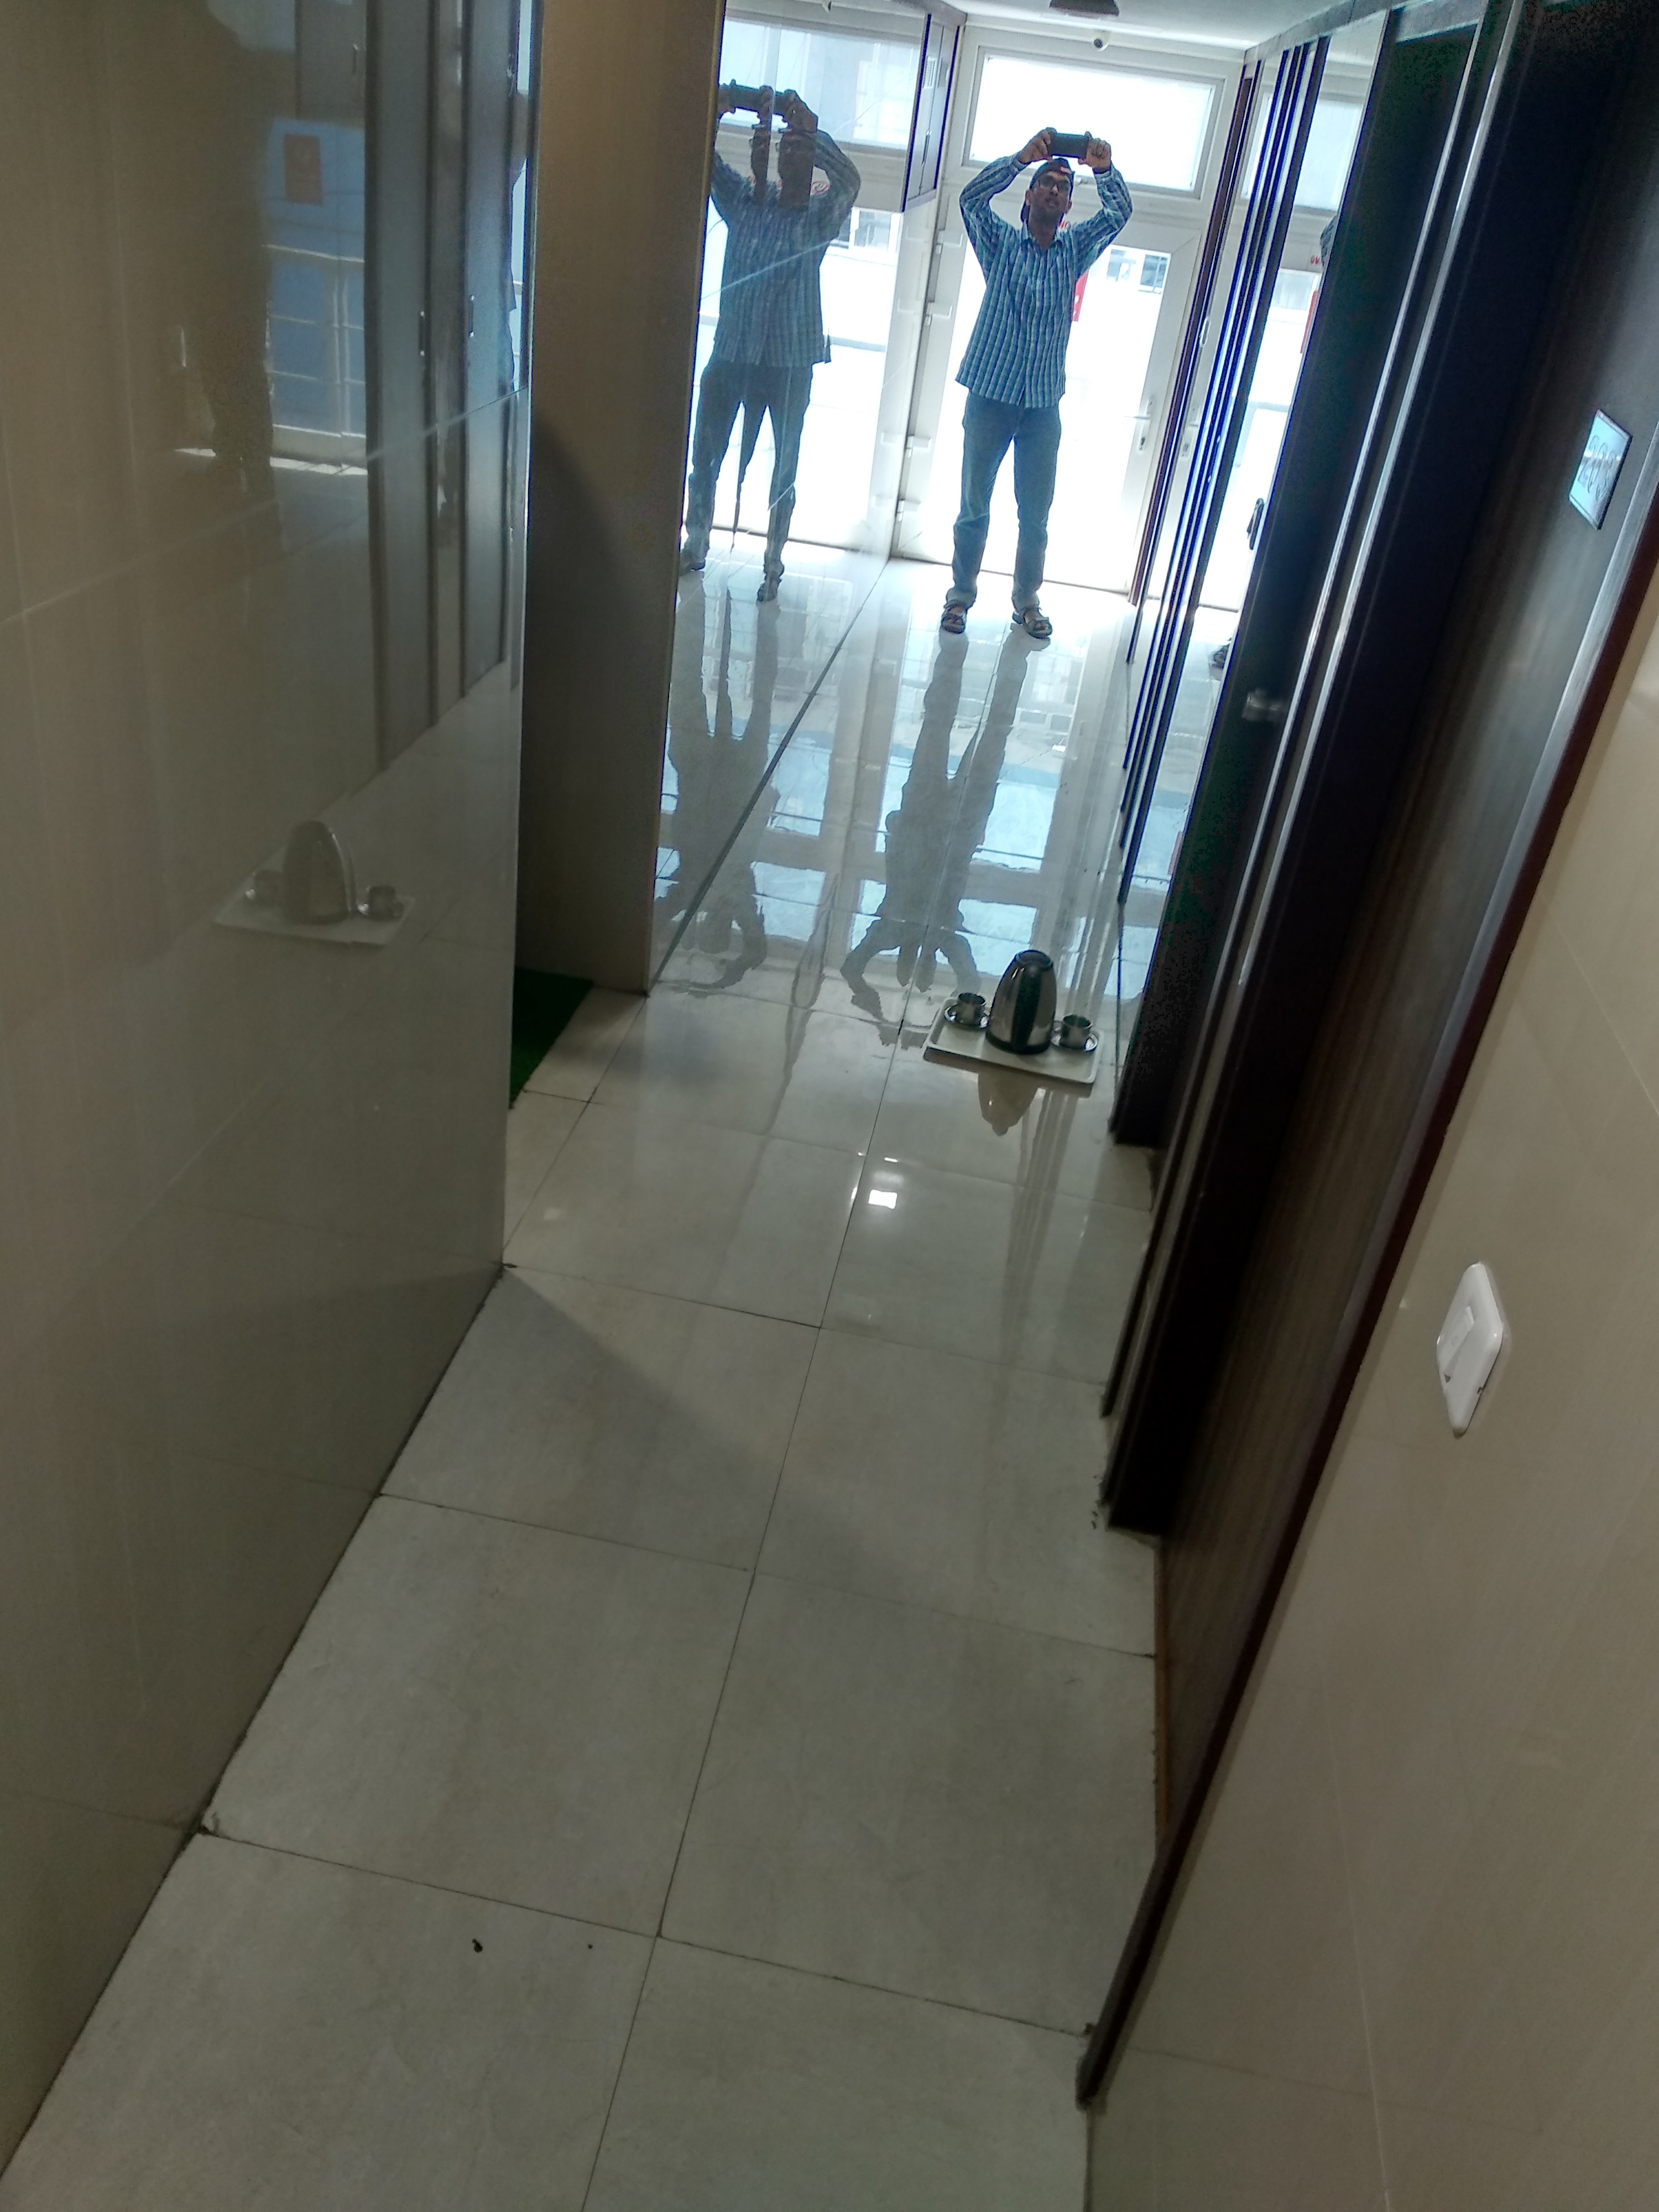CUP: (943, 977, 990, 1036), (1058, 1007, 1100, 1057)
JUG: (988, 925, 1060, 1061)
